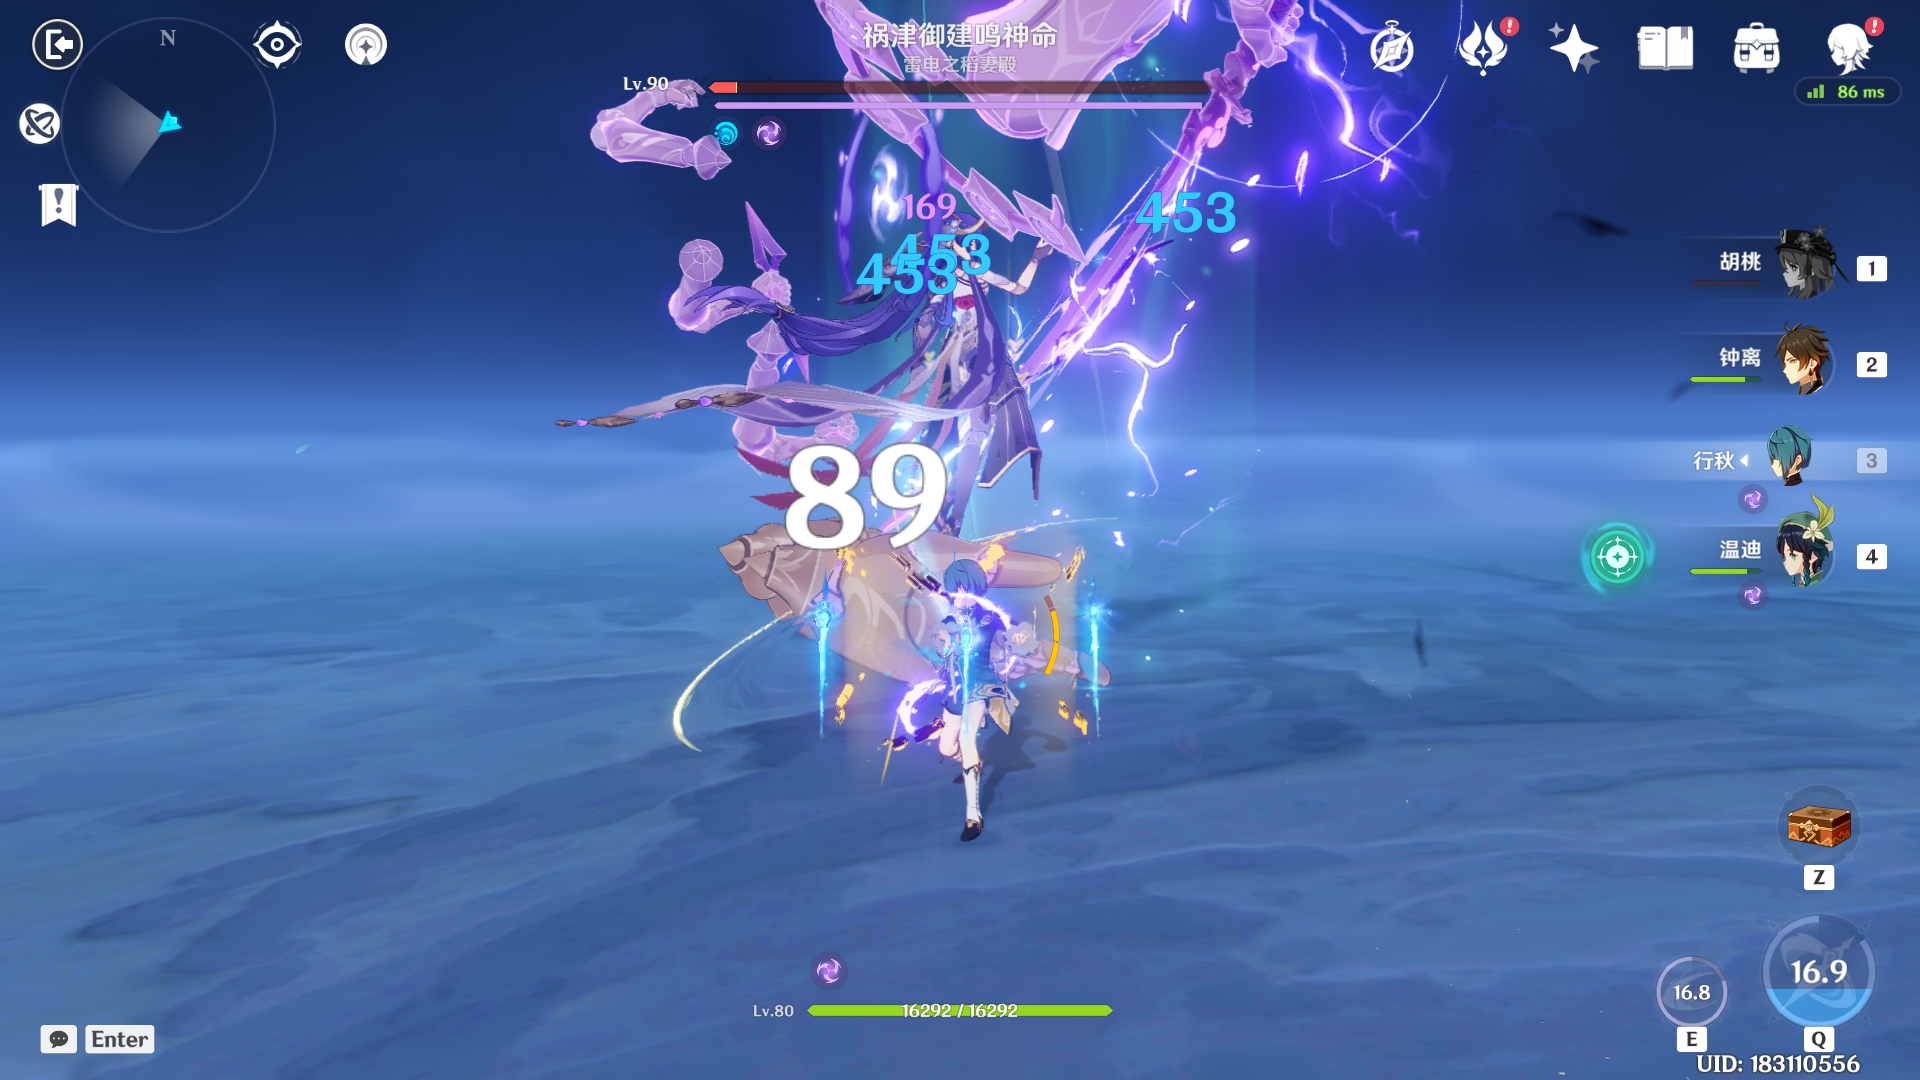character: (862, 524, 1069, 923)
